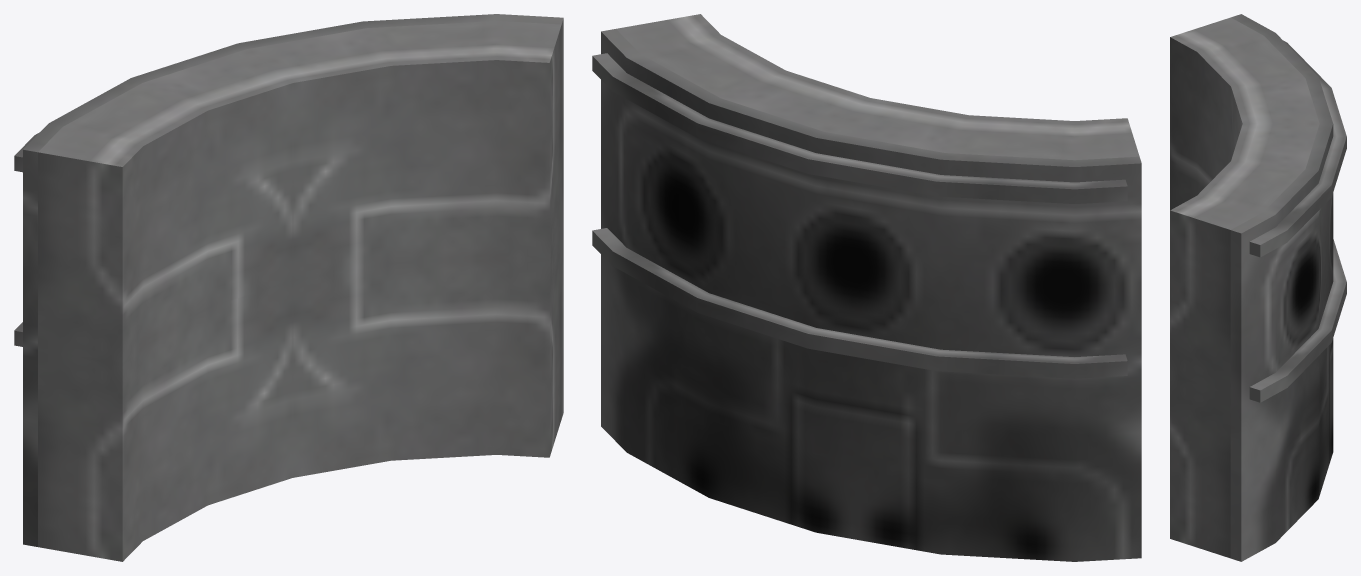
The model's file is rad2_basic_wide.obj.
3 views of the same model, side by side, from view 1: azimuth 30°, elevation 25°; view 2: azimuth 150°, elevation 25°; view 3: azimuth 270°, elevation 25° (orthographic). The views are drawn at different scales.
Visible parts, largest first — view 1: 1; view 2: 1; view 3: 1.
Part boxes in pixels (bbox=[...]): 1: bbox=[14, 14, 563, 561]; 1: bbox=[592, 14, 1141, 561]; 1: bbox=[1170, 14, 1346, 561].
Size of the model in its own units: 1.43 by 1 by 0.4876.
